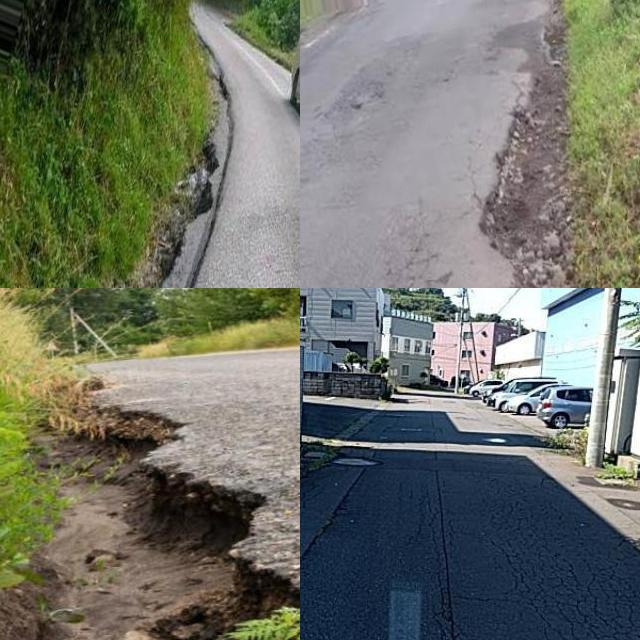Memanjang: (422, 459, 470, 640)
Pinggir: (49, 376, 300, 640), (95, 93, 247, 288), (473, 64, 593, 288)
Retak Buaya: (505, 499, 640, 640)
